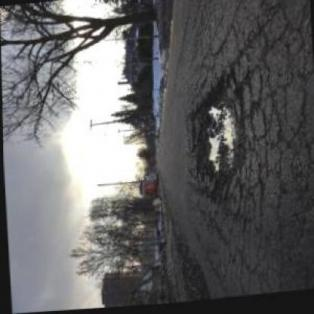Hueco: (186, 78, 248, 194)
